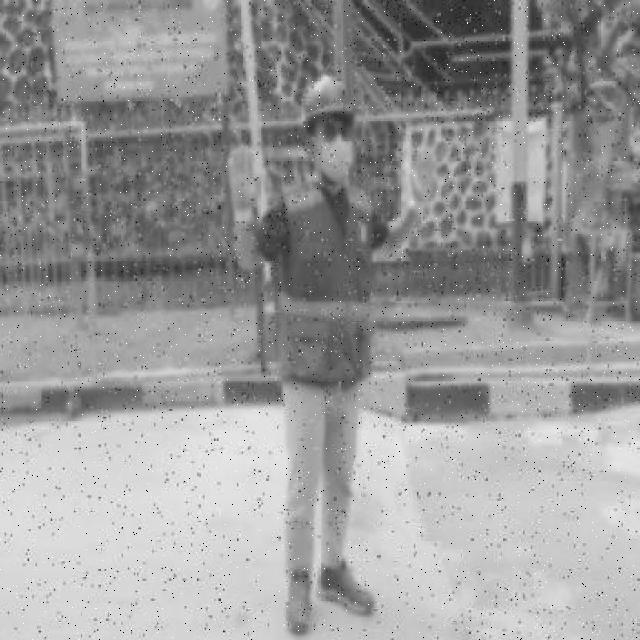Boots: (316, 556, 378, 622), (279, 564, 319, 640)
Gloves: (220, 144, 266, 222), (403, 147, 439, 216)
Helmet: (300, 73, 358, 121)
Mask: (262, 173, 387, 392)
